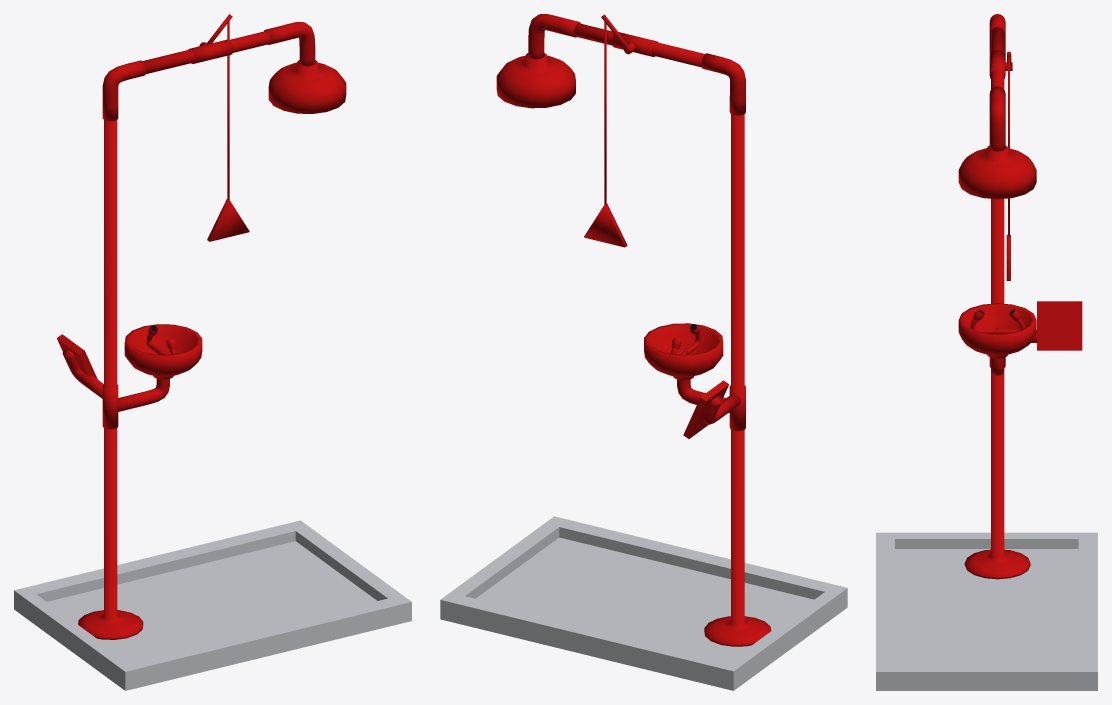
Rendered from showerEmergencyLabFix.fbx.
3 views of the same model, side by side, from view 1: azimuth 30°, elevation 25°; view 2: azimuth 150°, elevation 25°; view 3: azimuth 270°, elevation 25° (orthographic). The views are drawn at different scales.
Visible parts, largest first — view 1: Cube; view 2: Cube; view 3: Cube.
Boxes of the visible parts, x1,y1,x2,y2 form: Cube: [14, 14, 411, 690]; Cube: [440, 14, 847, 690]; Cube: [876, 14, 1097, 690].
Bounding box in the file's own units: 159 × 311 × 107.
